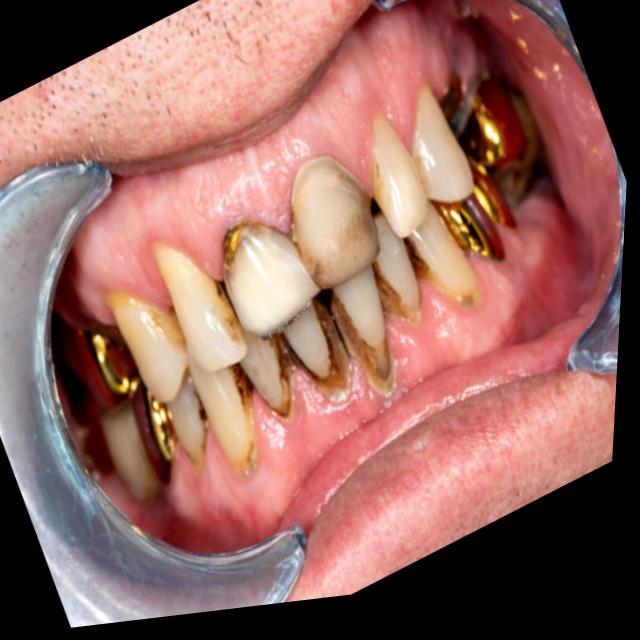calculus: (330, 293, 392, 394), (303, 299, 347, 396), (108, 293, 183, 344), (227, 363, 255, 470), (372, 262, 418, 323), (291, 212, 320, 287), (345, 172, 374, 240), (224, 221, 265, 268), (209, 275, 239, 338), (266, 340, 290, 413), (370, 159, 384, 206)
